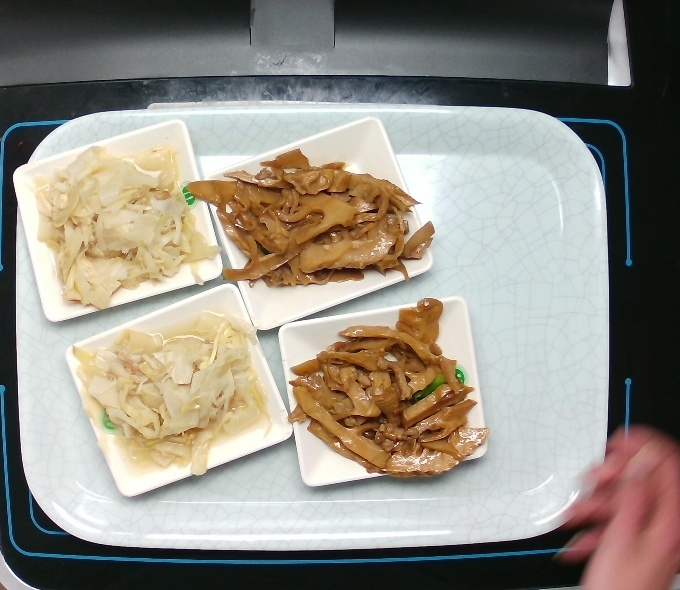wcq-LuSun: (22, 133, 223, 318), (62, 311, 271, 486)
wcq-SunGan: (280, 291, 491, 484), (182, 145, 434, 297)
